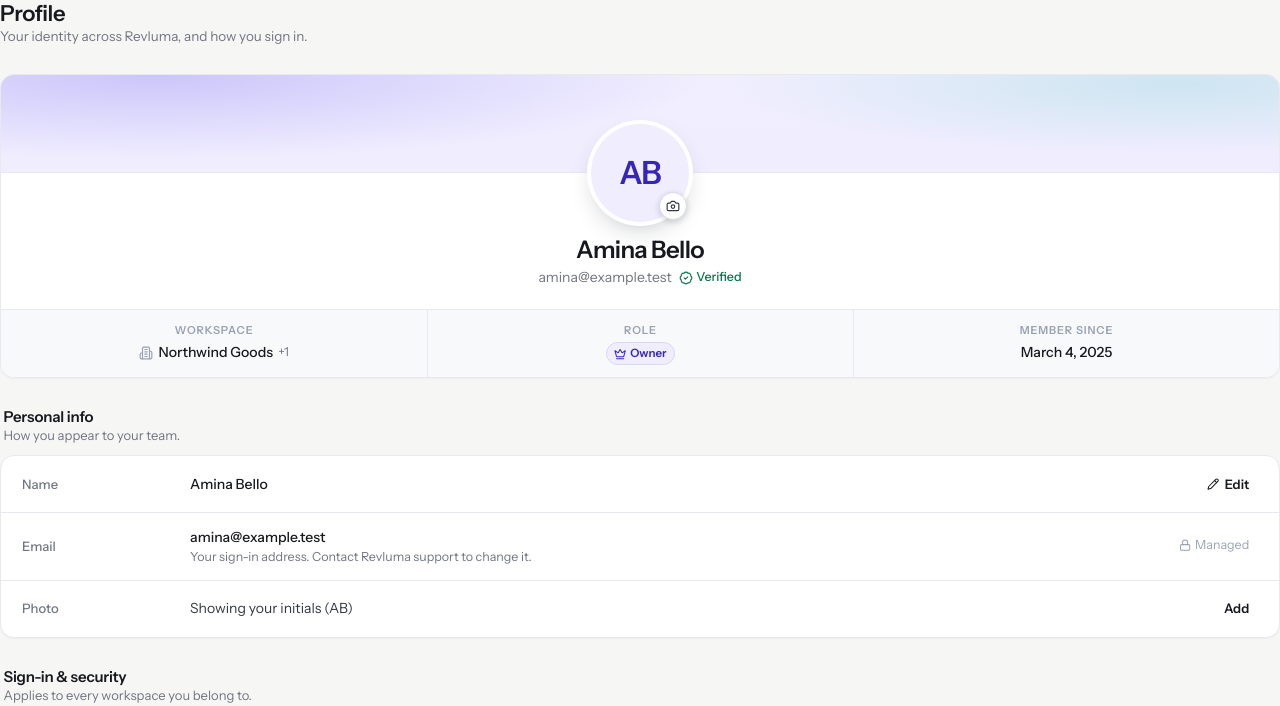
Test: Profile settings page › keeps the editor open with the API's error when saving fails
The image size is (1280, 706).
Expected: the element with test id "profile-workspace" shows "Northwind Goods", [158,343,273,361]
Click the button with aria-label "Edit name" at (1228, 484), box [1198,470,1258,498]
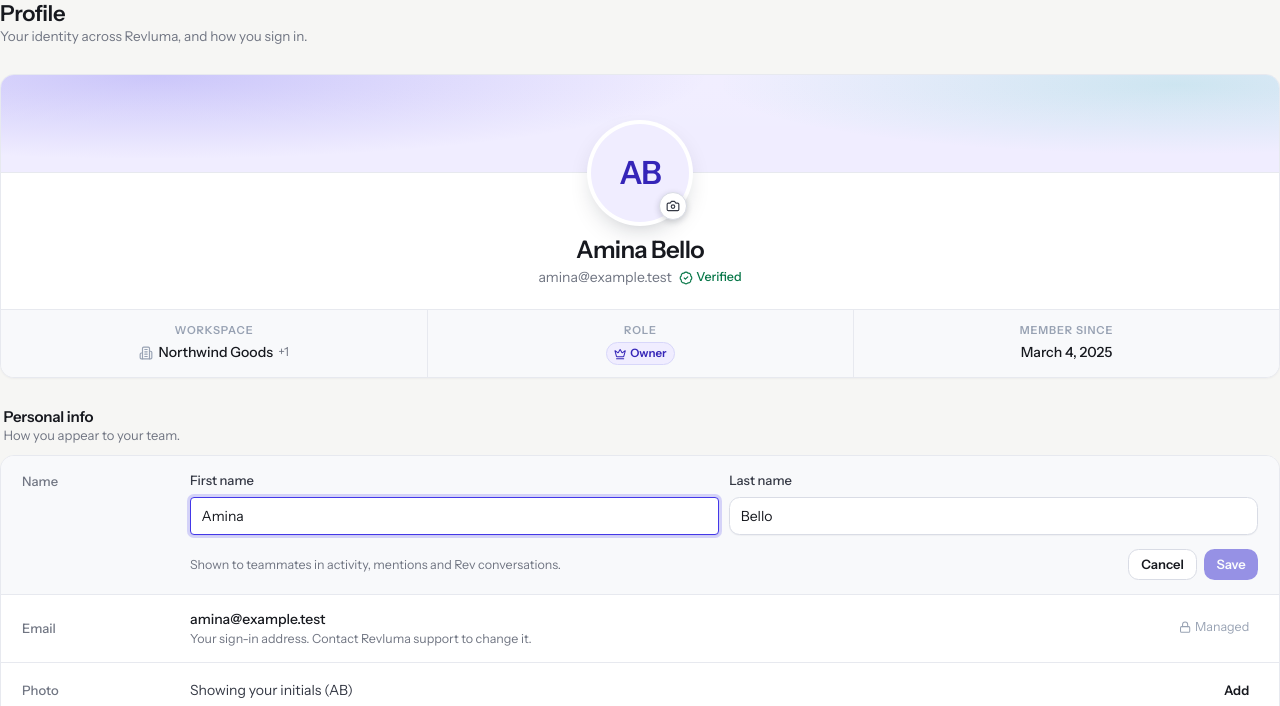
Replace the text in the field labelled "First name" with "Ami" at (454, 516), box [190,496,719,534]
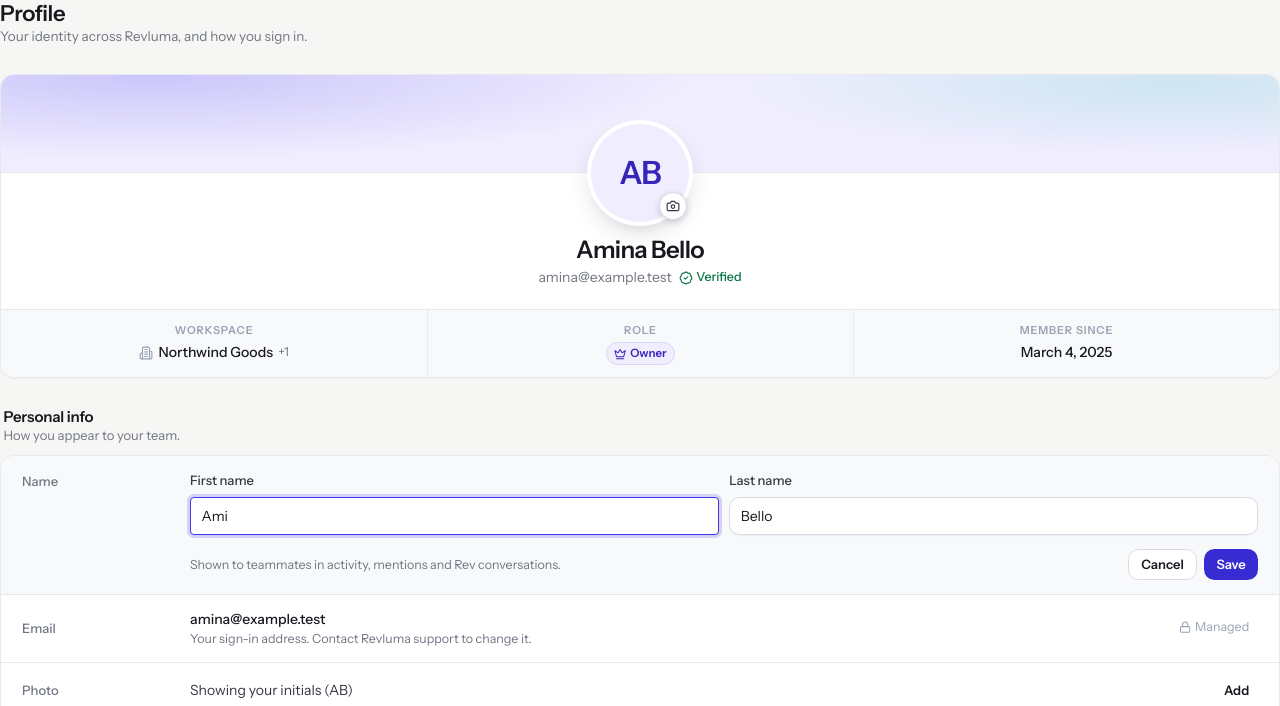
Click the button "Save" at (1231, 564), box [1204,548,1258,580]
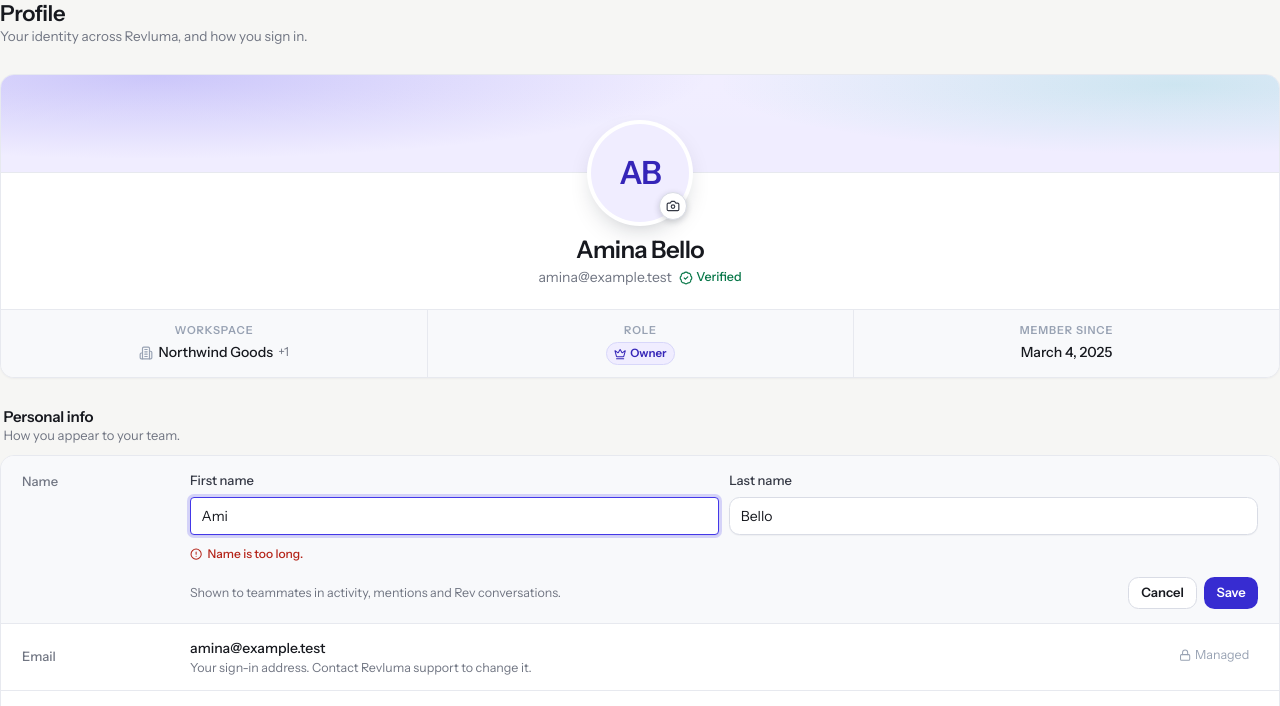
Expected: the message reads "Name is too long.", [208,546,303,561]
